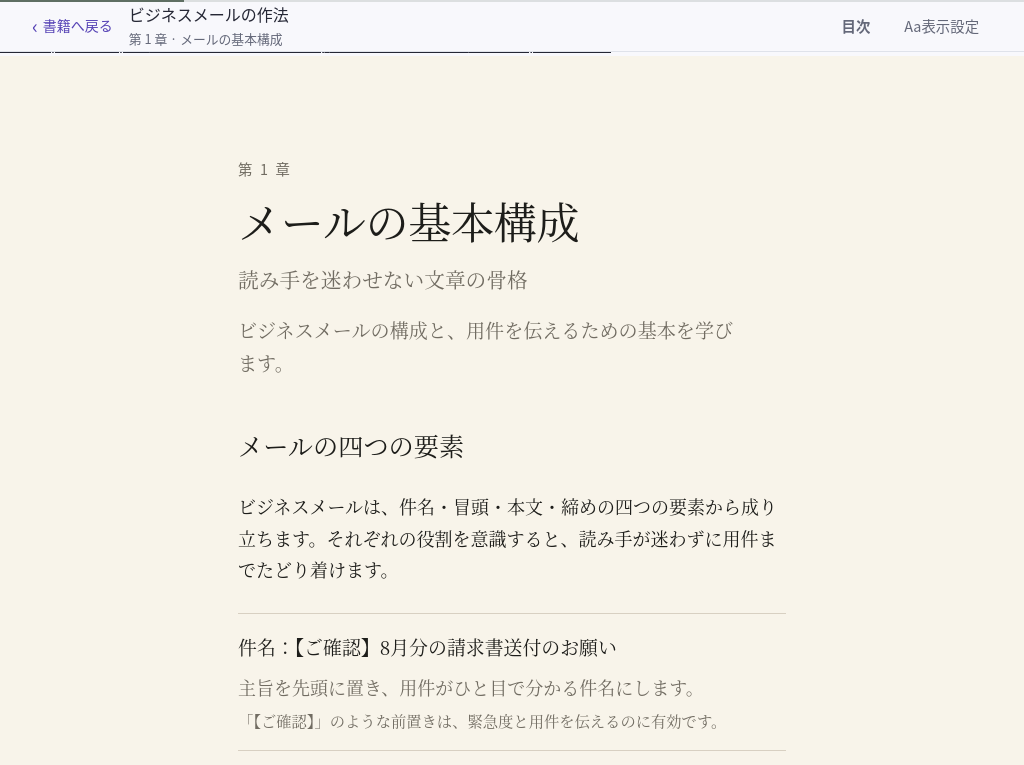
Test: reader resume intent › saves a Reader position, leaves, then restores it through Library Continue
Expected: the heading "メールの基本構成" is shown, [238,189,579,251]
Click the link "‹ 書籍へ戻る" at (72, 26), box [32,4,113,48]
(page scrolled)
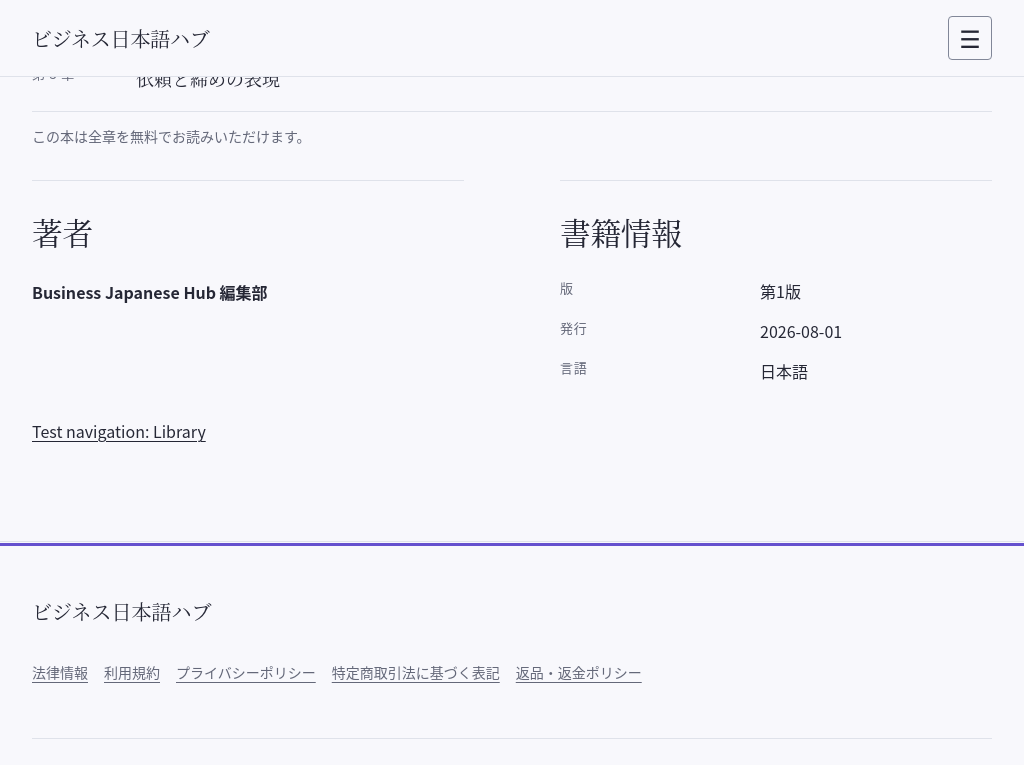
Click the link "Test navigation: Library" at (119, 431), box [32,419,206,443]
(page scrolled)
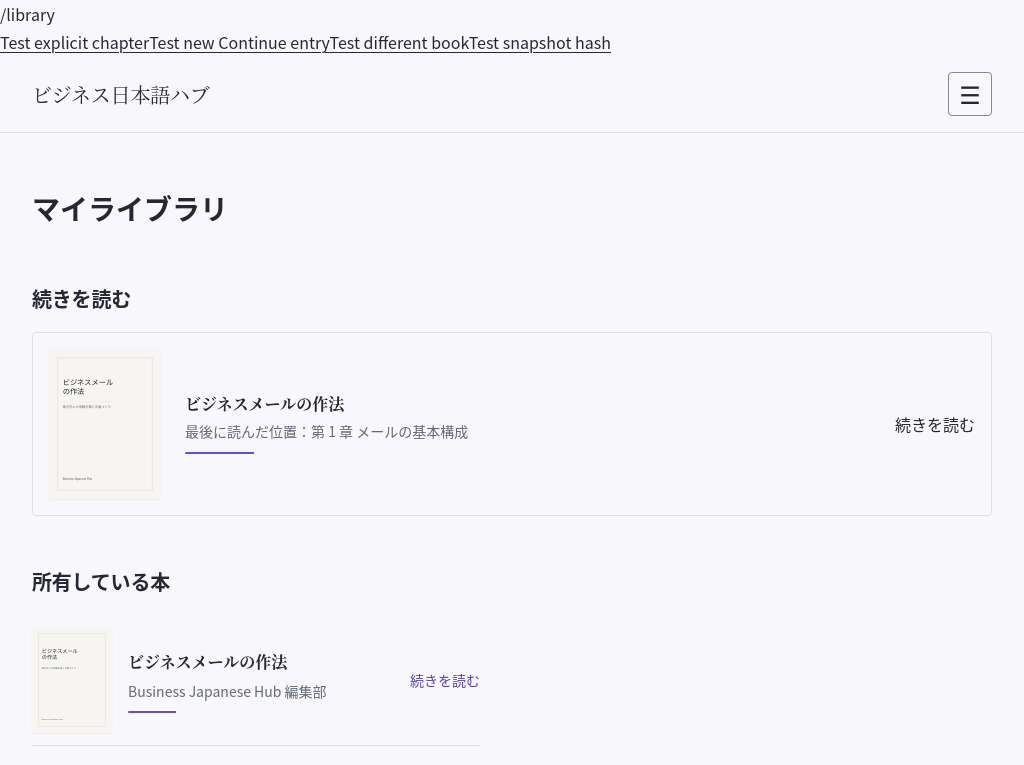
Click the link "ビジネスメールの作法 最後に読んだ位置：第 1 章 メールの基本構成 続きを読む" at (512, 424), box [32,332,992,516]
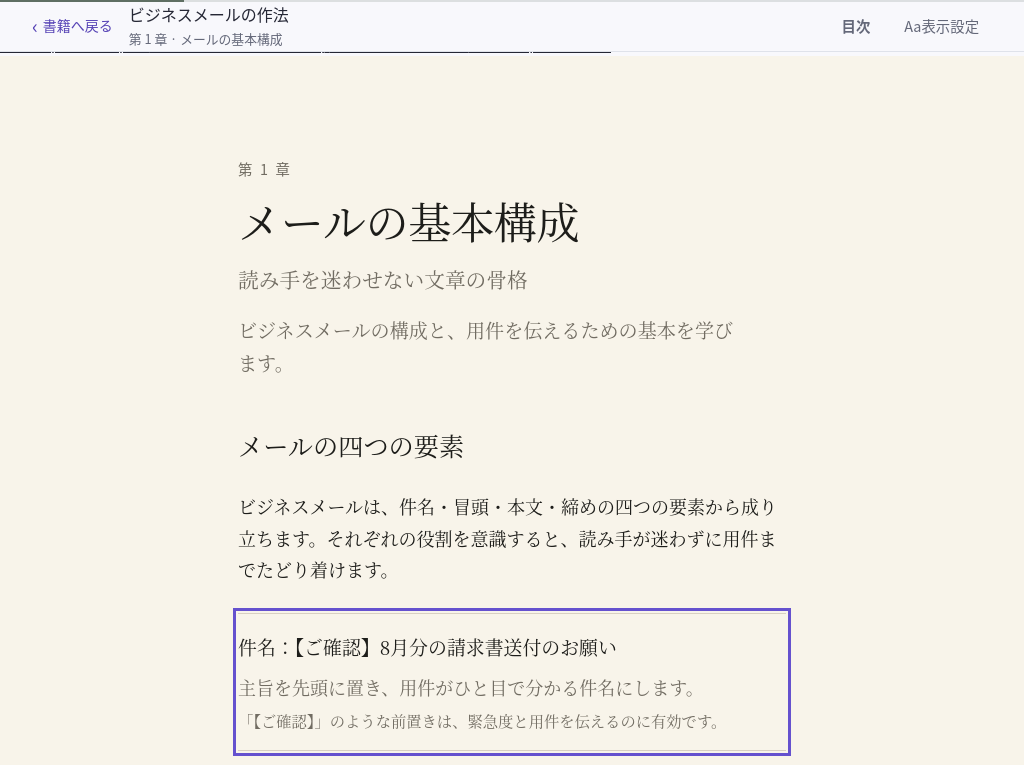
Result: the heading "メールの基本構成" is shown at [238,189,579,251]
